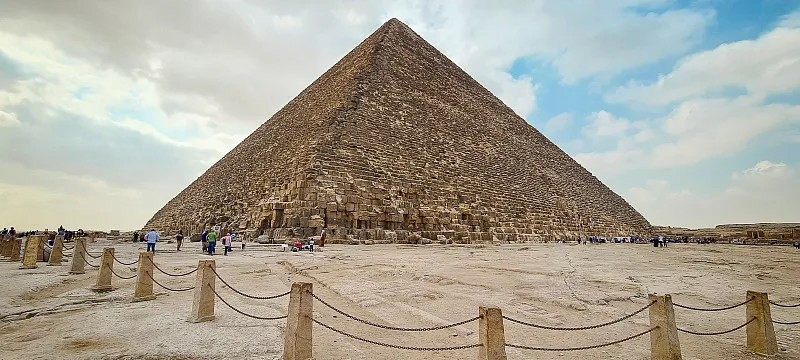Pyramid: (142, 17, 652, 240)
